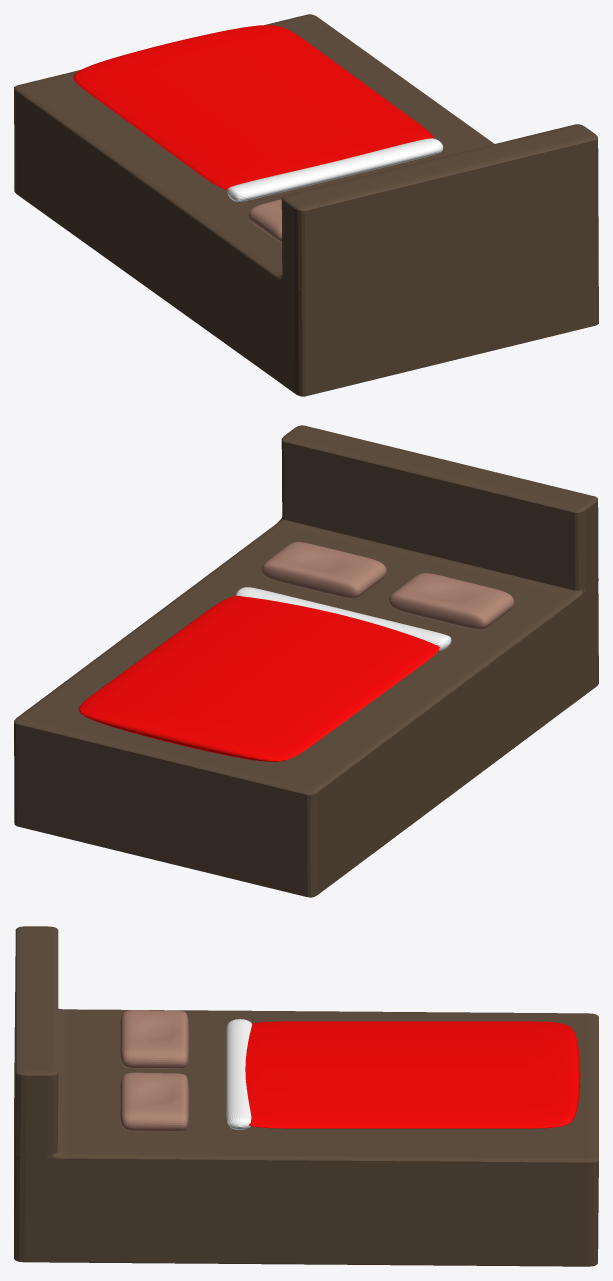
3 views of the same model, one above another, from view 1: azimuth 30°, elevation 25°; view 2: azimuth 150°, elevation 25°; view 3: azimuth 270°, elevation 25° (orthographic).
Visible parts, largest first — view 1: 立方体.174, 立方体.177, 柱体.018, 立方体.175; view 2: 立方体.174, 立方体.177, 立方体.175, 立方体.176, 柱体.018; view 3: 立方体.174, 立方体.177, 立方体.176, 立方体.175, 柱体.018.
Part boxes in pixels (left/top/right/bottom): 立方体.174: left=14, top=14, right=598, bottom=396; 立方体.177: left=73, top=25, right=434, bottom=189; 柱体.018: left=227, top=138, right=443, bottom=201; 立方体.175: left=248, top=199, right=281, bottom=241; 立方体.174: left=14, top=425, right=598, bottom=897; 立方体.177: left=78, top=595, right=439, bottom=761; 立方体.175: left=389, top=573, right=514, bottom=629; 立方体.176: left=261, top=542, right=386, bottom=598; 柱体.018: left=235, top=587, right=451, bottom=650; 立方体.174: left=14, top=926, right=598, bottom=1266; 立方体.177: left=245, top=1021, right=580, bottom=1128; 立方体.176: left=120, top=1072, right=188, bottom=1131; 立方体.175: left=120, top=1010, right=188, bottom=1068; 柱体.018: left=226, top=1019, right=252, bottom=1129.
Bounding box in the file's own units: 408 × 248 × 678.
